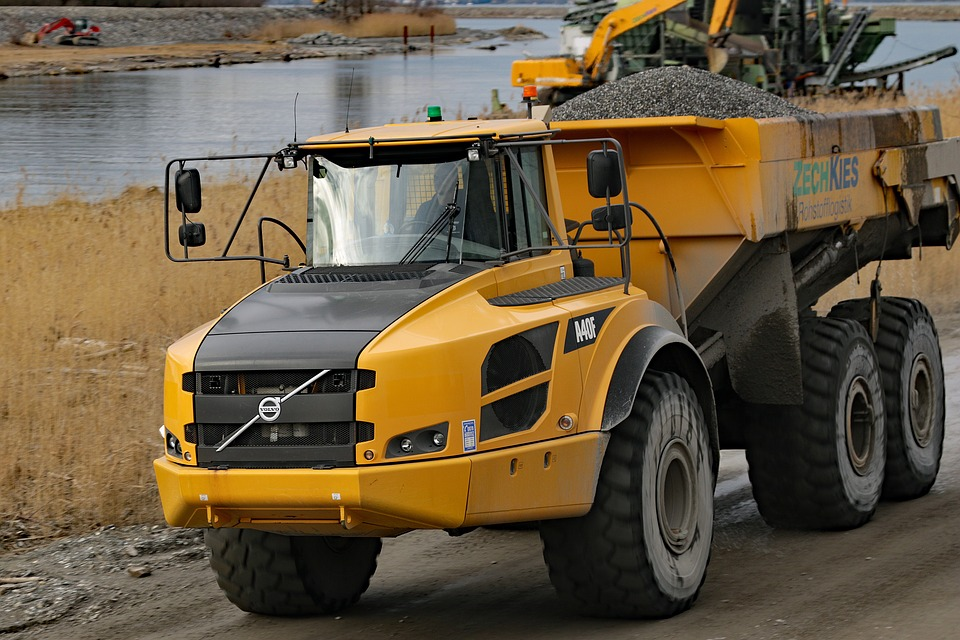truck: (139, 24, 949, 625)
